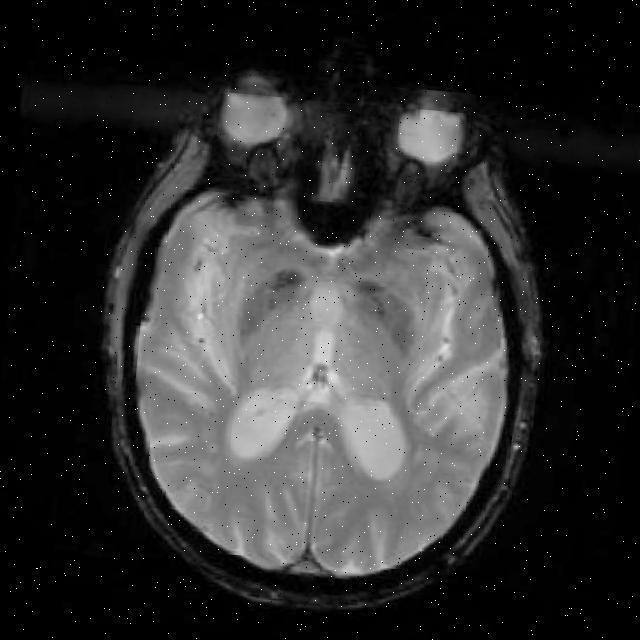MCI: (412, 294, 498, 455), (172, 220, 248, 376)
